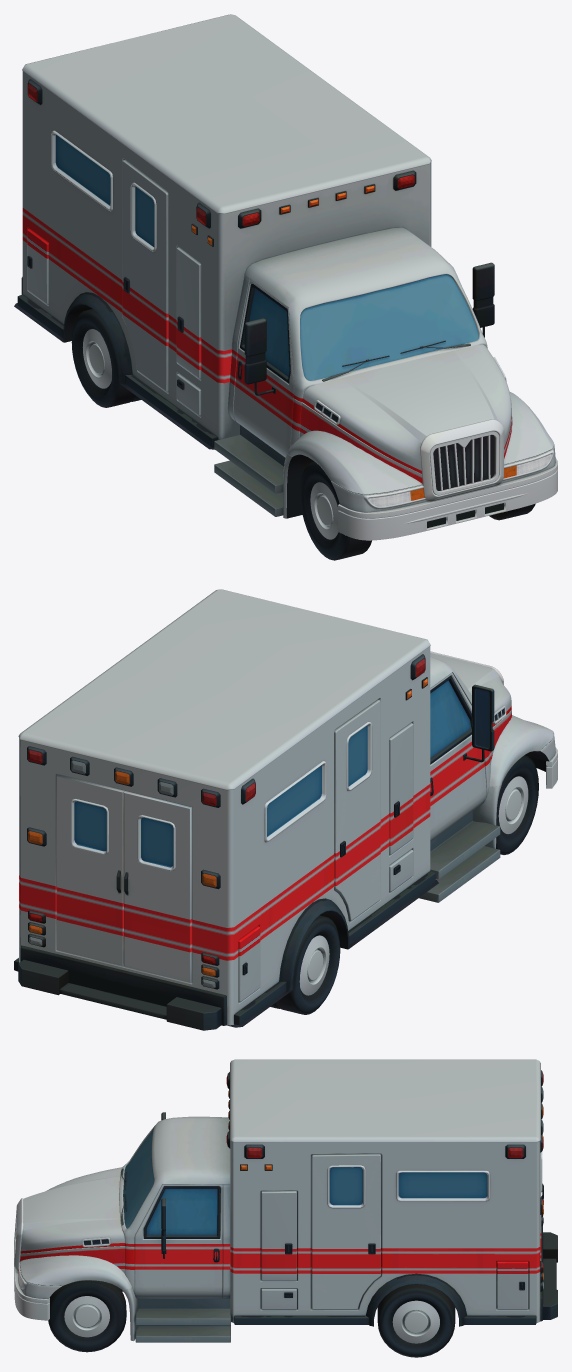
The model's file is Ambulance.fbx.
The picture shows the model from 3 angles, top to bottom: view 1: azimuth 30°, elevation 25°; view 2: azimuth 150°, elevation 25°; view 3: azimuth 270°, elevation 25°; orthographic projection. The views are drawn at different scales.
Parts seen in each view (by area): view 1: node_id288, node_id286; view 2: node_id288; view 3: node_id288.
Part boxes in pixels (x1,y1,x2,y2): node_id288: (14,14,557,560); node_id286: (369,454,551,506); node_id288: (14,589,557,1030); node_id288: (14,1059,557,1357).
Size of the model in its own units: 0.4704 by 0.512 by 1.15.
2 materials, 2 textured.
